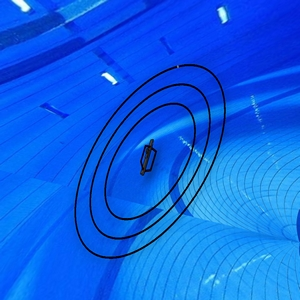circle: (70, 61, 228, 263)
submarine: (139, 137, 162, 180)
